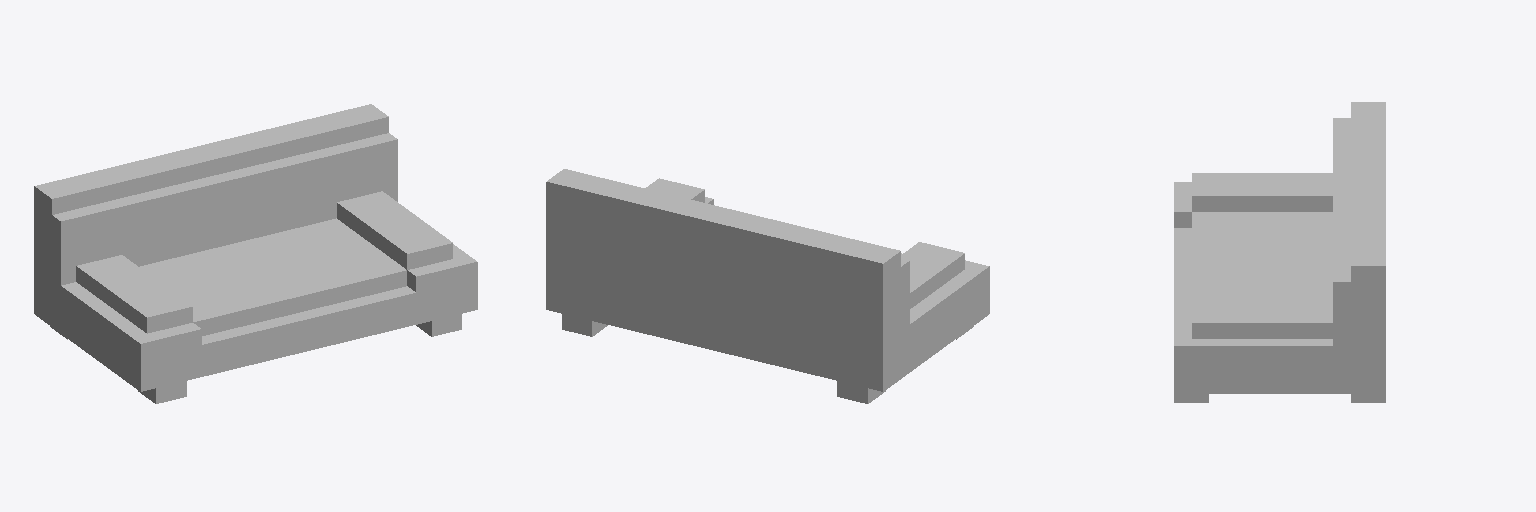
The model's file is Couch.obj.
3 renders of one model, left to right at view 1: azimuth 30°, elevation 25°; view 2: azimuth 150°, elevation 25°; view 3: azimuth 270°, elevation 25°, orthographic.
Visible parts, largest first — view 1: object 1; view 2: object 1; view 3: object 1.
Boxes of the visible parts, <box> form: object 1: <box>34,104,477,403</box>; object 1: <box>546,169,989,403</box>; object 1: <box>1174,102,1385,402</box>.
Bounding box in the file's own units: 2.2 × 0.9 × 1.2.